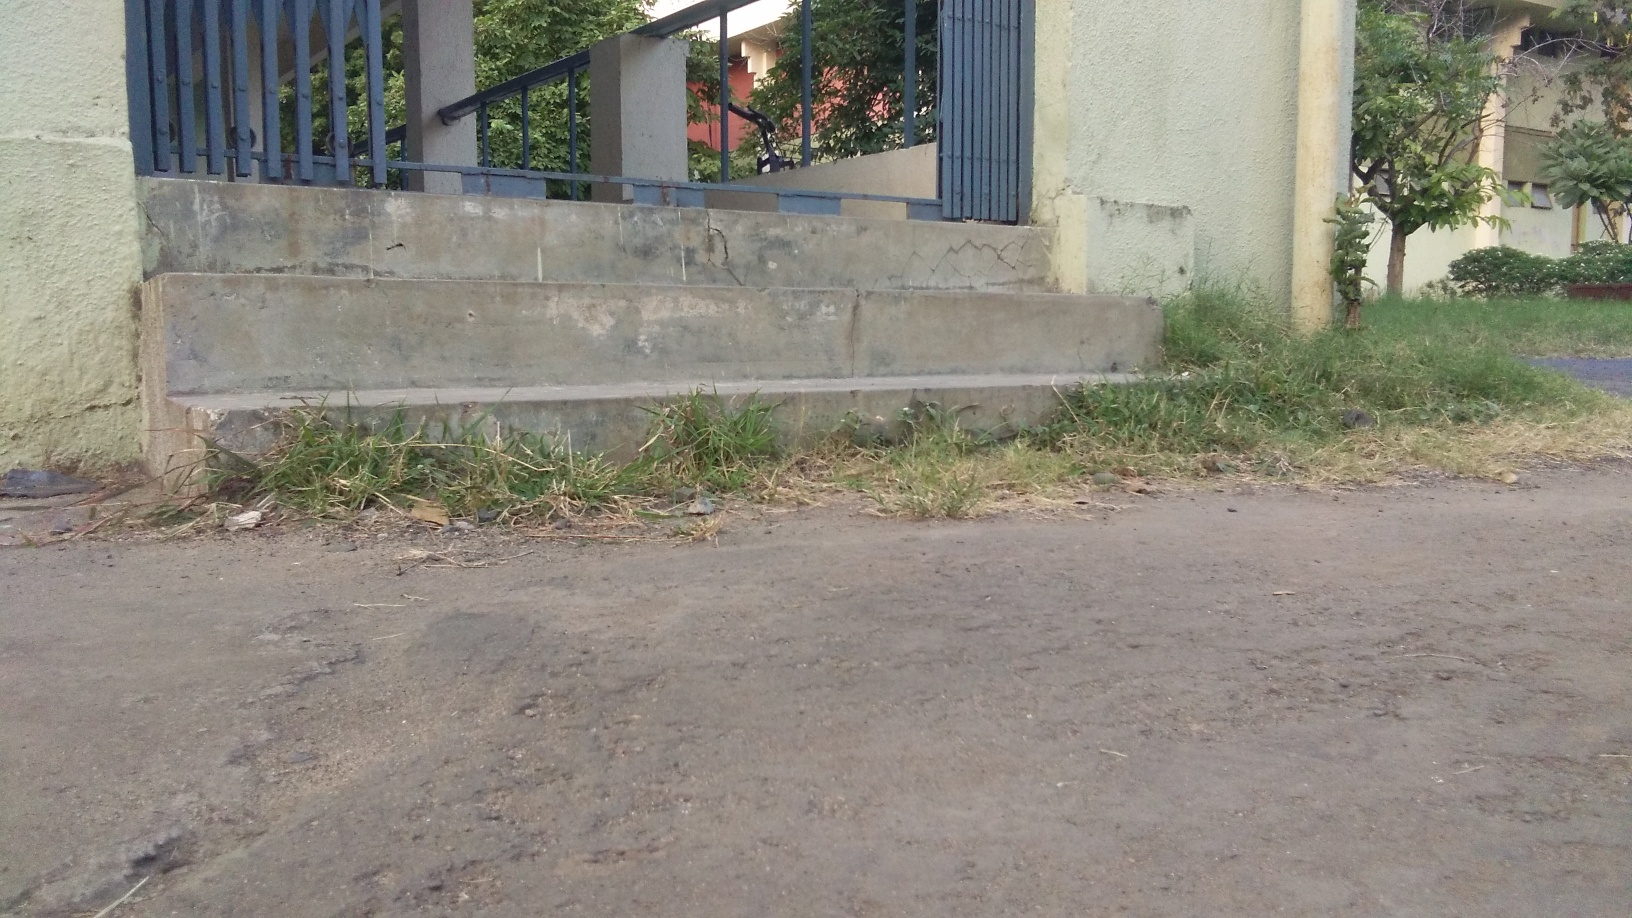stairs_up: (141, 178, 1203, 458)
